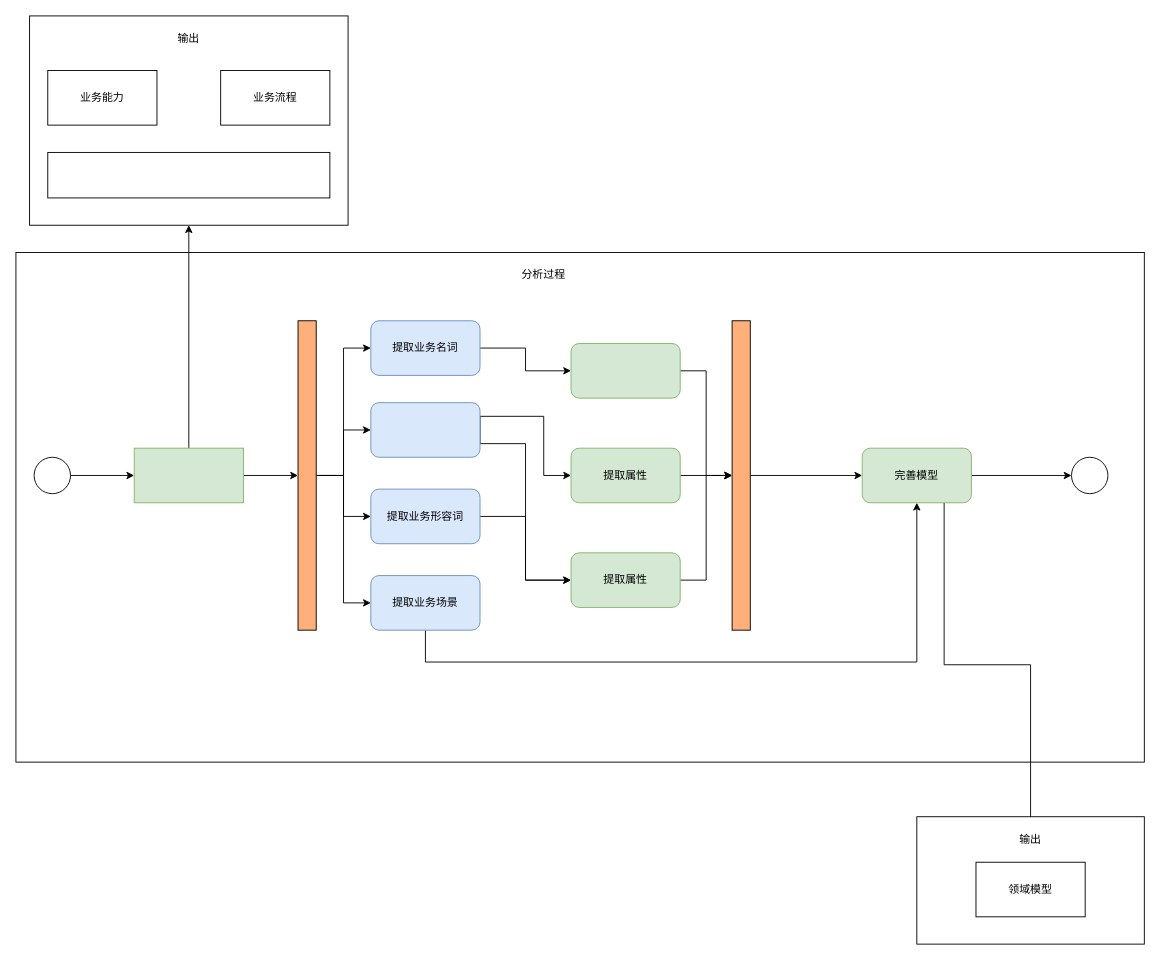
Some shapes in this 1160 by 960 pixel diagram are drawn without their labels. Here are the shapes that lost their labels. From the top down, the box of each, then its label:
(47, 152, 330, 198): 业务需求
(570, 343, 680, 398): 提取实体
(370, 402, 480, 457): 提取业务动词
(133, 447, 243, 503): 收集用例
